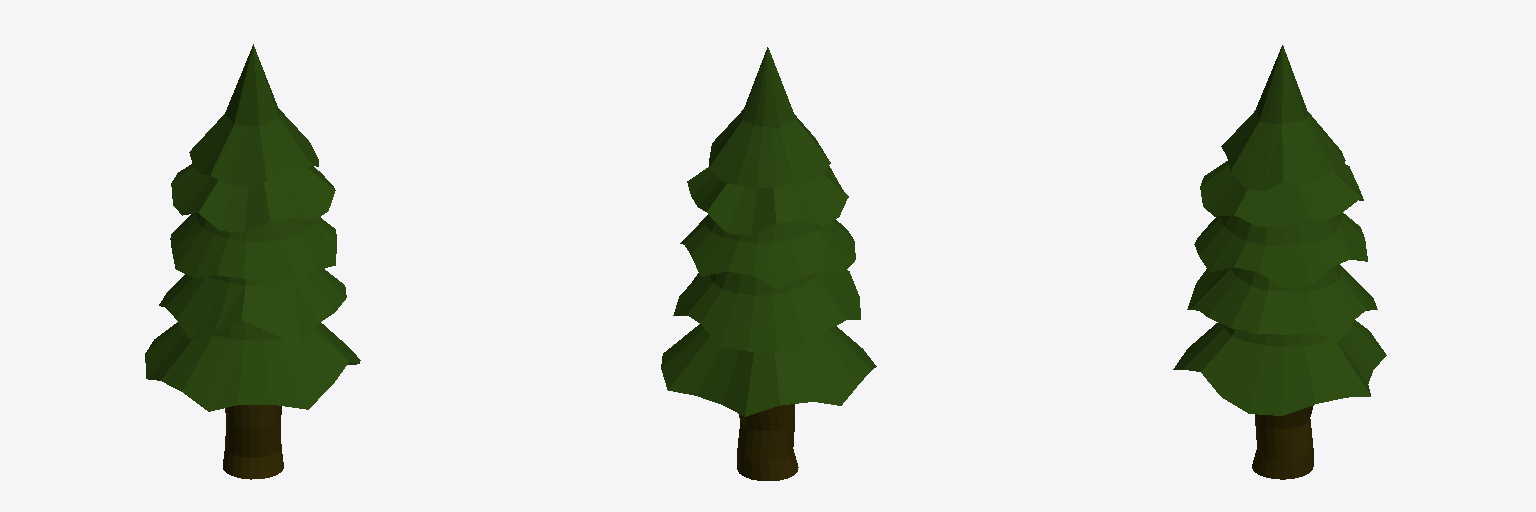
File: pinetree.obj
3 renders of one model, left to right at view 1: azimuth 30°, elevation 25°; view 2: azimuth 150°, elevation 25°; view 3: azimuth 270°, elevation 25°, orthographic.
Parts seen in each view (by area): view 1: pinetree; view 2: pinetree; view 3: pinetree.
Boxes of the visible parts, x1,y1,x2,y2 form: pinetree: [145, 44, 360, 479]; pinetree: [661, 47, 876, 480]; pinetree: [1173, 45, 1386, 479].
Size of the model in its own units: 3.81 by 8.21 by 3.77.